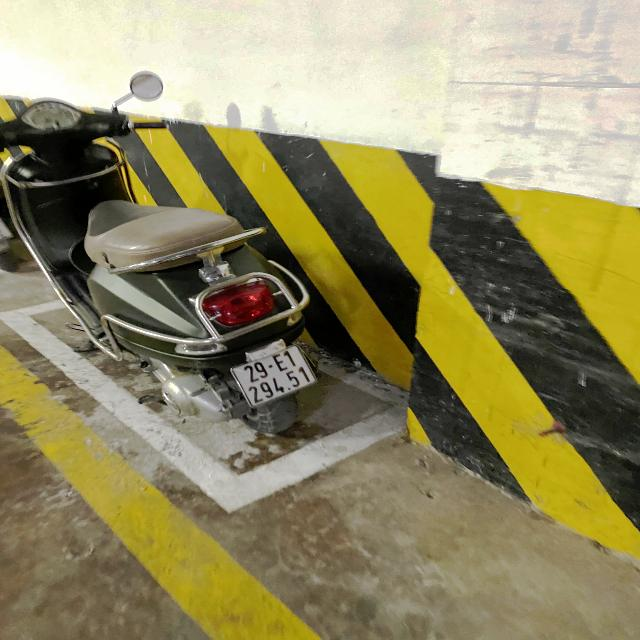license_plate: (229, 344, 321, 411)
